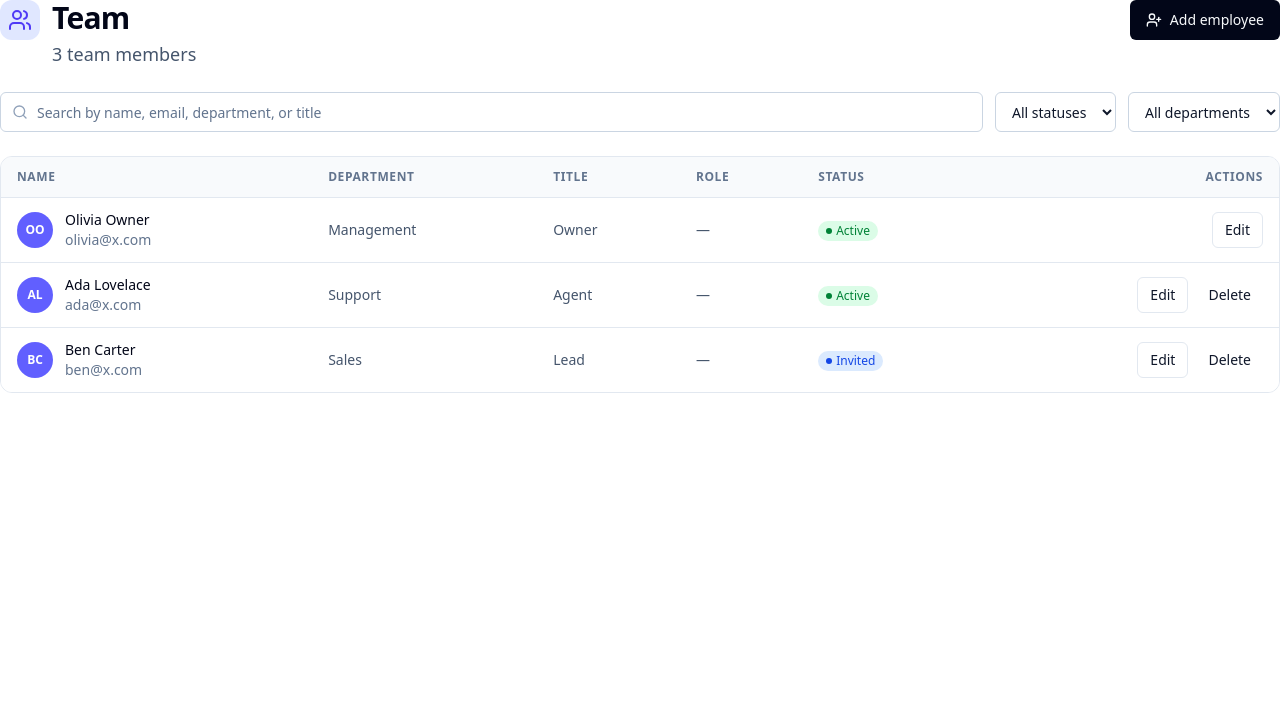
it: TeamPage › creates an employee with the exact payload and confirms only after success
Expected: the button "Ada Lovelace" is shown, [65,275,151,295]
Click the button "Add employee".
click(1205, 20)  # box [1130,0,1279,40]
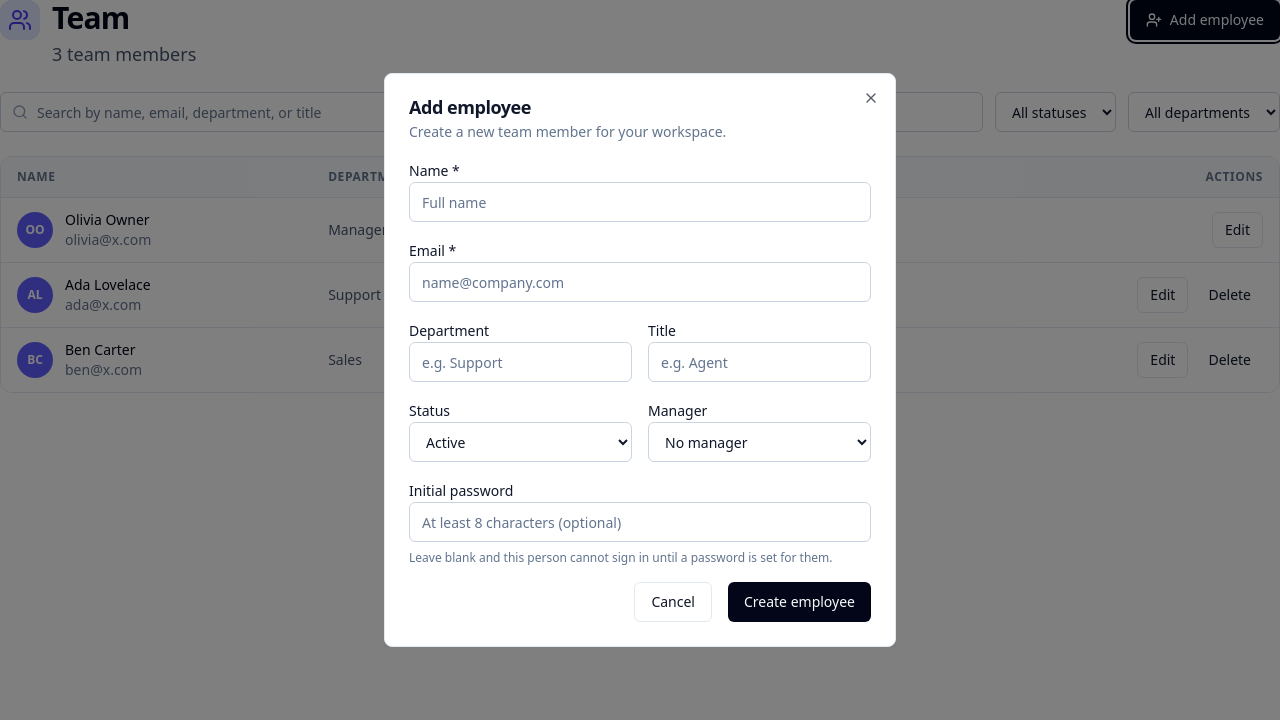
Type "Grace Hopper" into the field labelled "Name *".
click(640, 202); type("Grace Hopper")  # box [409,182,871,222]
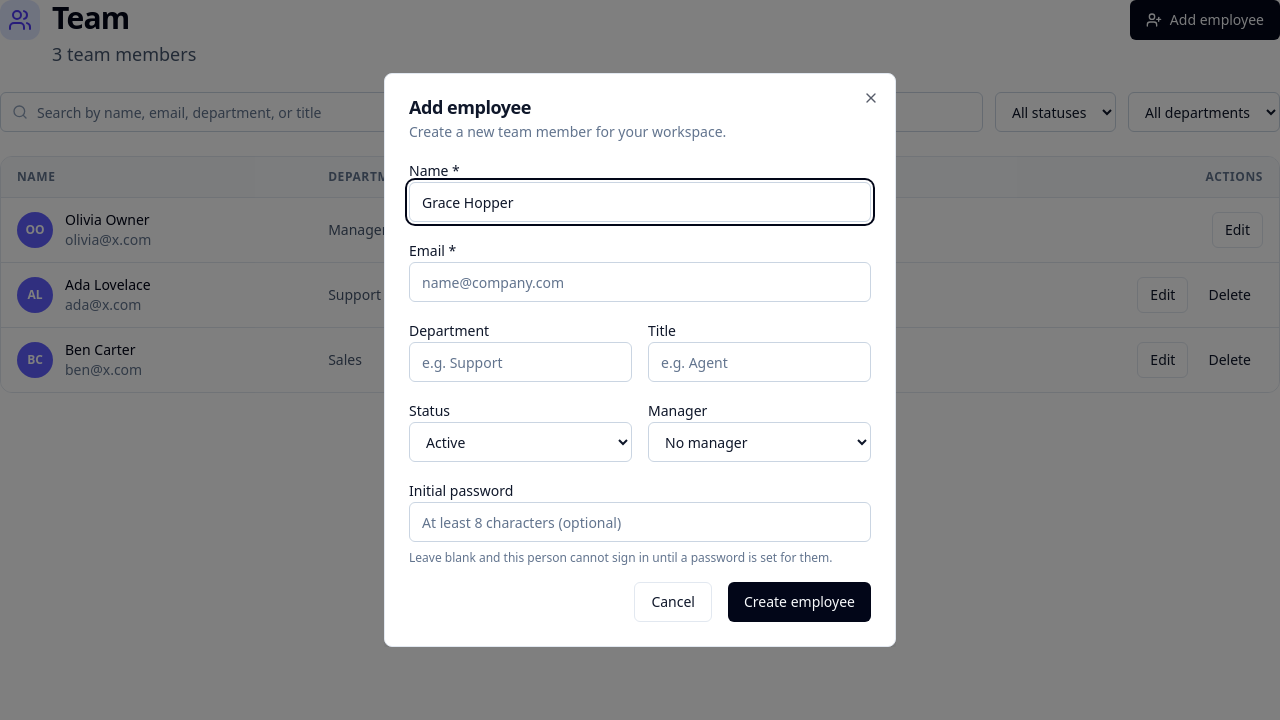
Type "grace@x.com" into the field labelled "Email *".
click(640, 282); type("grace@x.com")  # box [409,262,871,302]
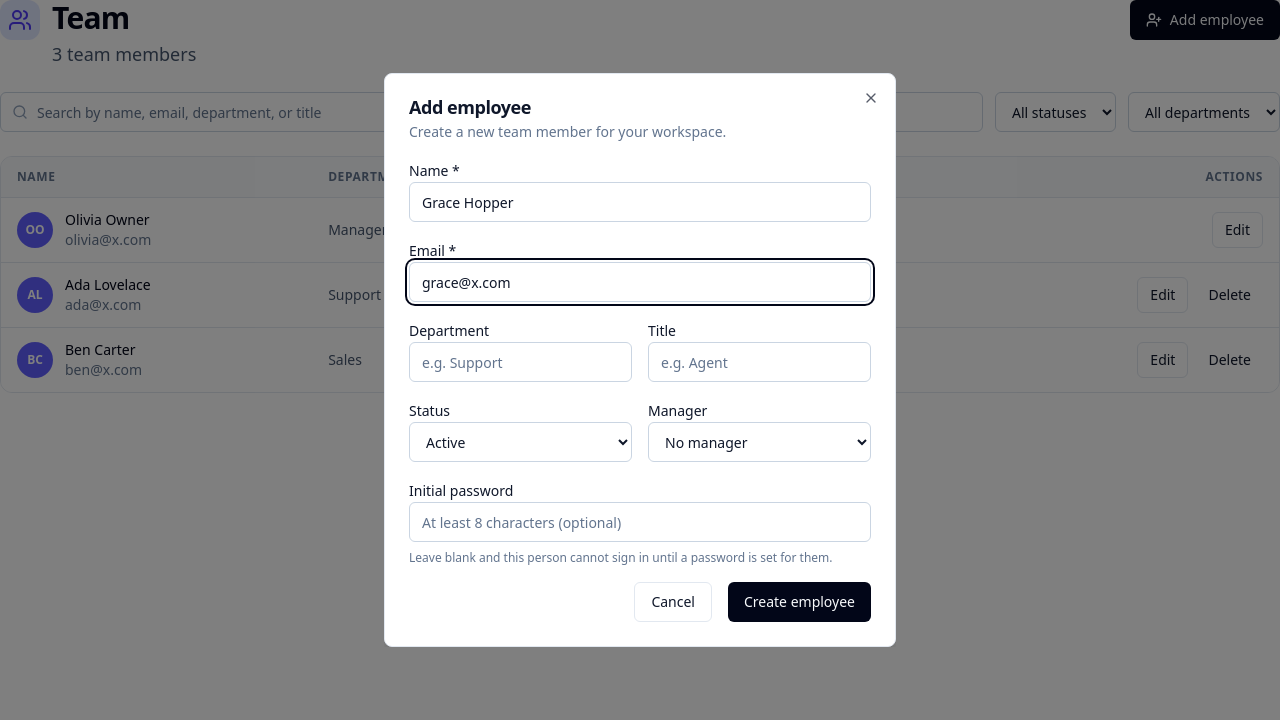
Type "Support" into the field labelled "Department".
click(520, 362); type("Support")  # box [409,342,632,382]
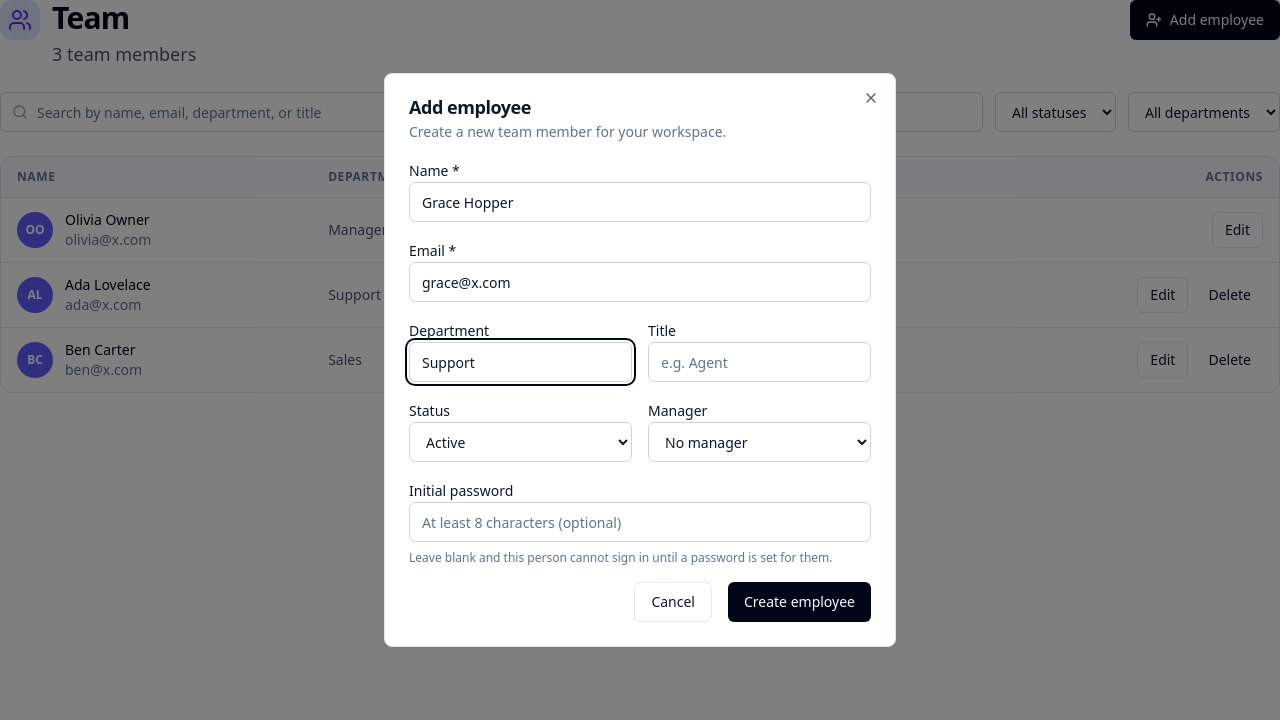
Click the button "Create employee".
click(800, 602)  # box [728,582,871,622]
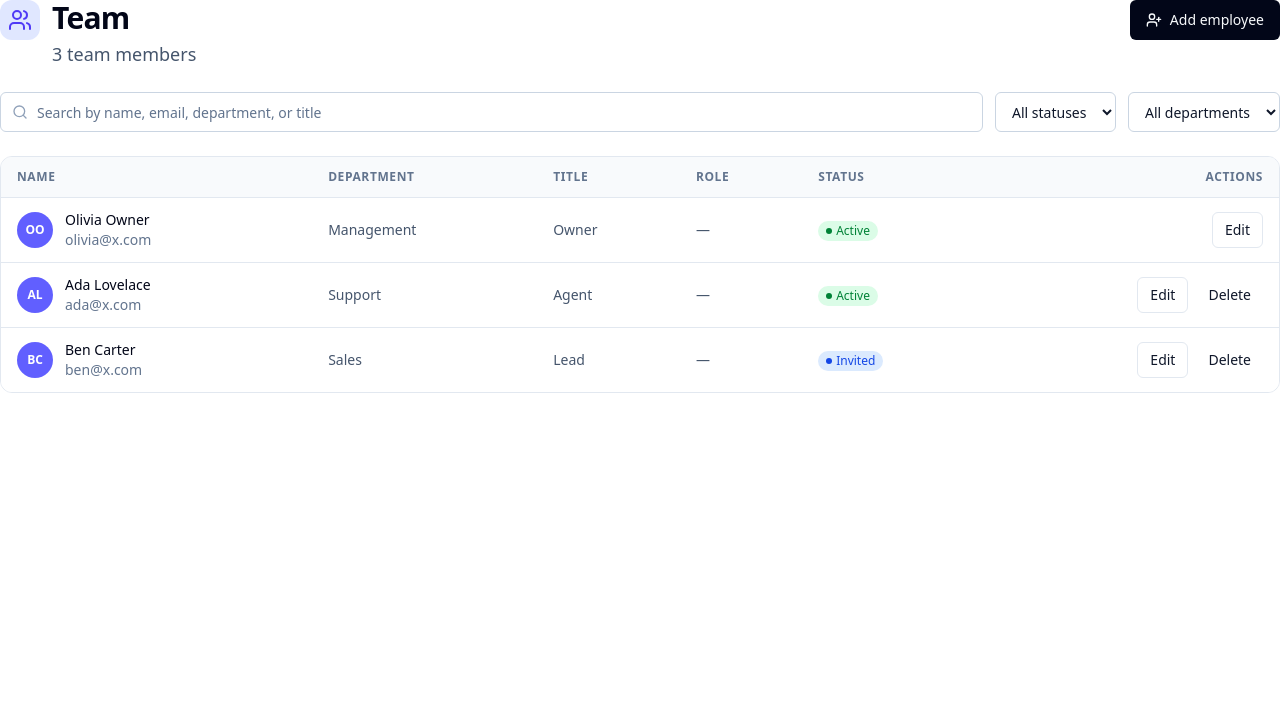
Result: the dialog is gone
